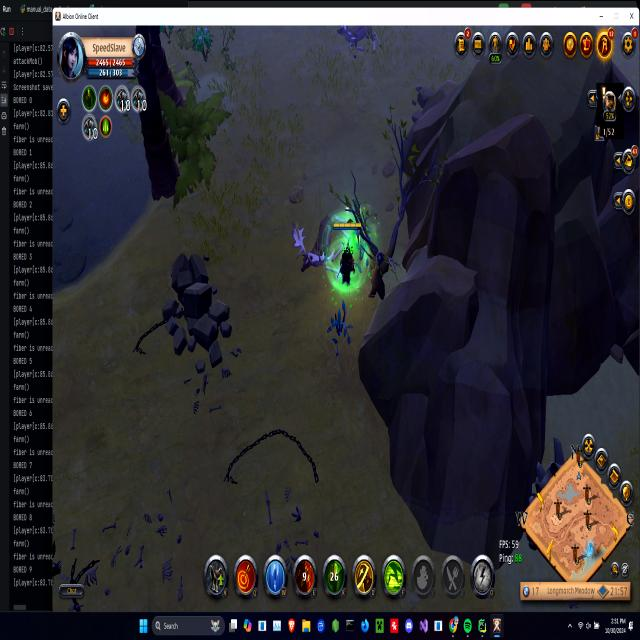hide: (191, 23, 214, 62)
mob: (288, 212, 338, 272), (337, 25, 382, 59)
red: (330, 215, 362, 289)
